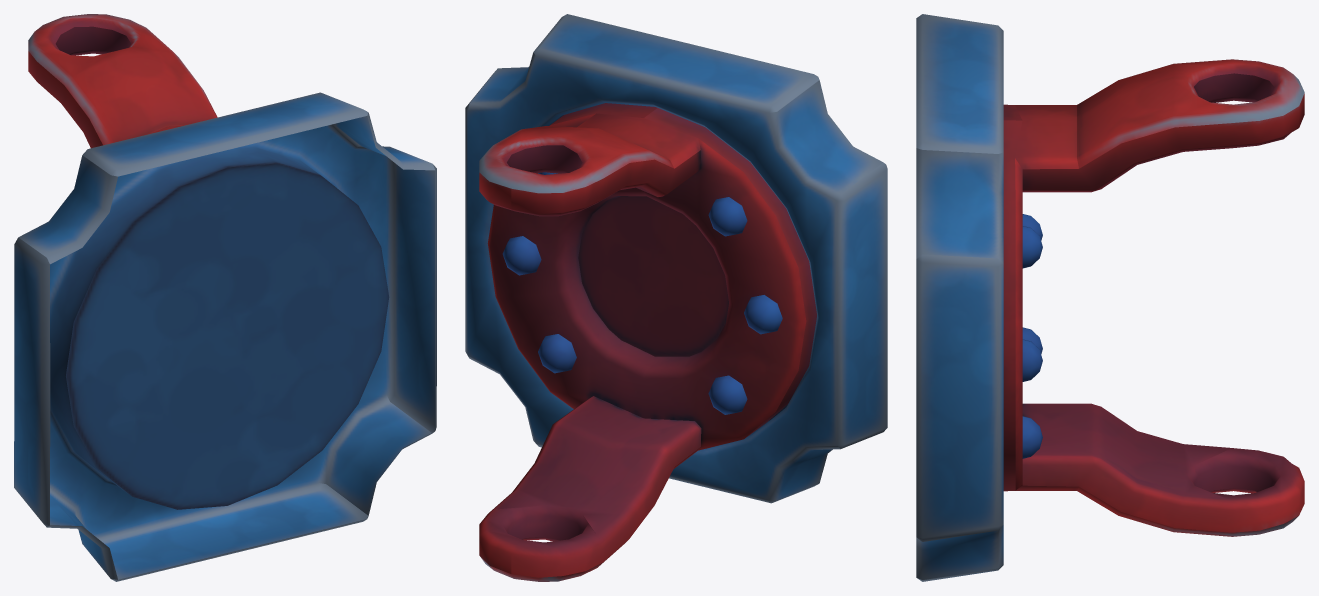
The model's file is Cannon_Base.fbx.
The picture shows the model from 3 angles, left to right: view 1: azimuth 30°, elevation 25°; view 2: azimuth 150°, elevation 25°; view 3: azimuth 270°, elevation 25°; orthographic projection. The views are drawn at different scales.
Visible parts, largest first — view 1: m_dlc08_cannon_base_01, m_dlc08_cannon_swivel_01; view 2: m_dlc08_cannon_swivel_01, m_dlc08_cannon_base_01; view 3: m_dlc08_cannon_swivel_01, m_dlc08_cannon_base_01.
Part boxes in pixels (x1,y1,x2,y2): m_dlc08_cannon_base_01: (14,92,436,581); m_dlc08_cannon_swivel_01: (28,14,217,148); m_dlc08_cannon_swivel_01: (479,103,816,581); m_dlc08_cannon_base_01: (465,14,887,503); m_dlc08_cannon_swivel_01: (1003,59,1304,536); m_dlc08_cannon_base_01: (916,14,1003,581).
Bounding box in the file's own units: 1.52 × 1.22 × 1.52.
Materials: 2 (2 with a texture image).
